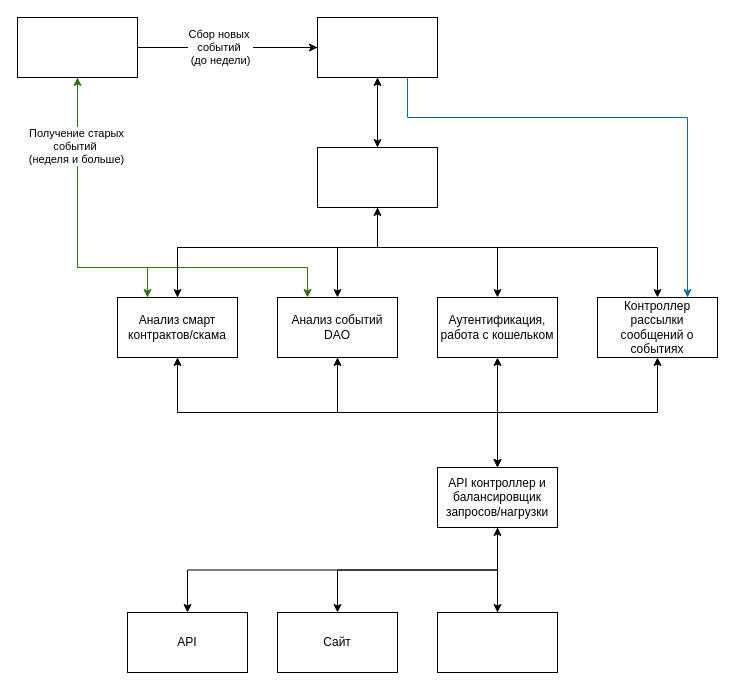
Image size: 735x690. Some labels were removed from this diagram. The centre of each missing label's shape, as x and y in pixels:
"Snapshot и другие" belongs at point 77,47.
"Telegram Bot" belongs at point 497,642.
"БД PostgreSQL" belongs at point 377,177.
"Сбор данных по API" belongs at point 377,47.
